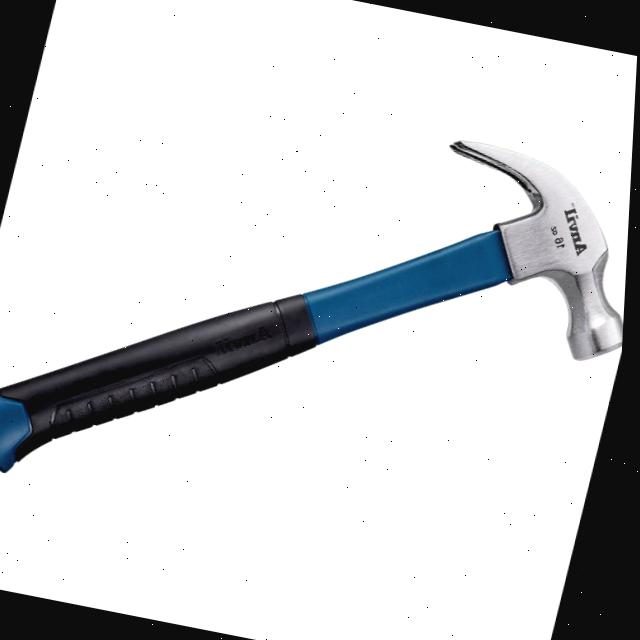hammer: (0, 46, 638, 594)
